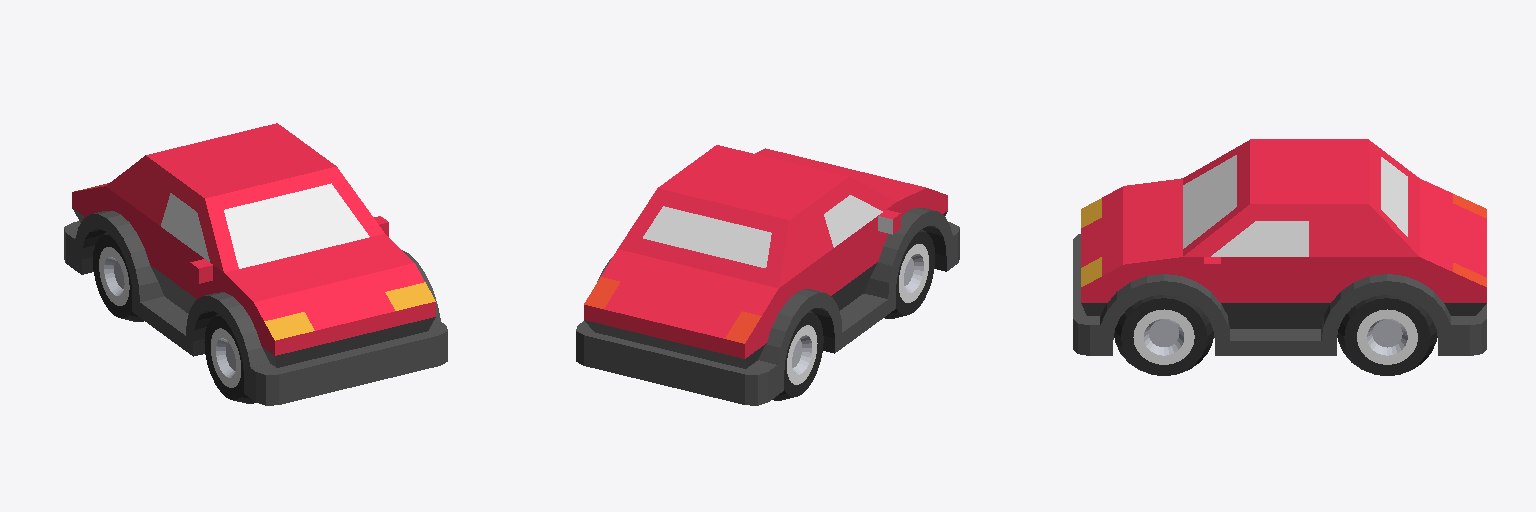
Rendered from sedanSports.obj.
The picture shows the model from 3 angles: view 1: azimuth 30°, elevation 25°; view 2: azimuth 150°, elevation 25°; view 3: azimuth 270°, elevation 25°; orthographic projection.
Parts seen in each view (by area): view 1: body, wheel_frontRight, wheel_backRight; view 2: body, wheel_backRight, wheel_frontRight; view 3: body, wheel_frontLeft, wheel_backLeft.
Boxes of the visible parts, x1,y1,x2,y2 form: body: [64, 123, 447, 405]; wheel_frontRight: [204, 314, 255, 403]; wheel_backRight: [93, 232, 143, 321]; body: [576, 145, 959, 405]; wheel_backRight: [772, 310, 823, 400]; wheel_frontRight: [884, 229, 934, 318]; body: [1073, 139, 1486, 355]; wheel_frontLeft: [1114, 295, 1213, 375]; wheel_backLeft: [1337, 295, 1436, 375].
Bounding box in the file's own units: 1.3 × 1.1 × 2.45.